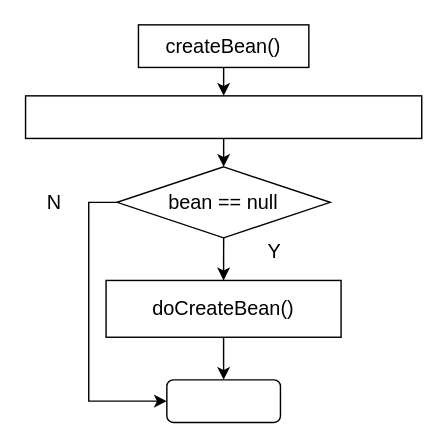
Image size: 446x447. Some labels were removed from this diagram. The centre of each missing label's shape, as x and y in pixels:
Object bean = resolveBeforeInstantiation(): the point at 223,116
结束: the point at 222,400
